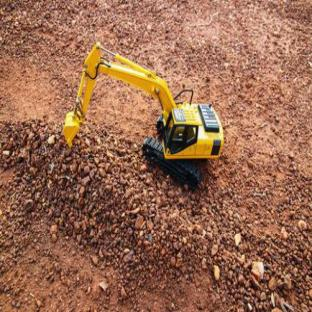ExcavationMachinery: (64, 42, 245, 194)
